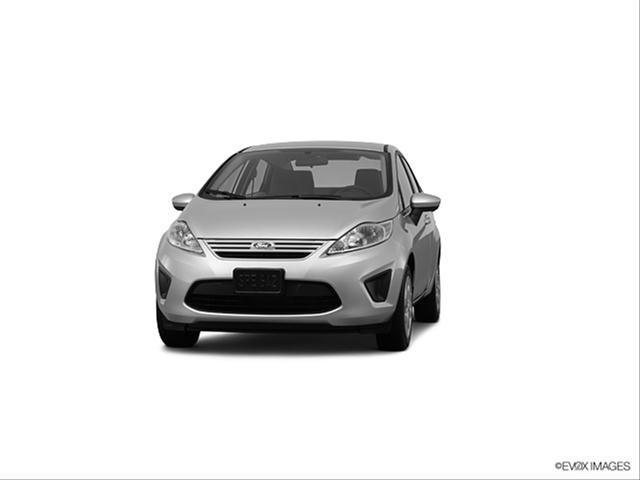car: (152, 140, 443, 355)
